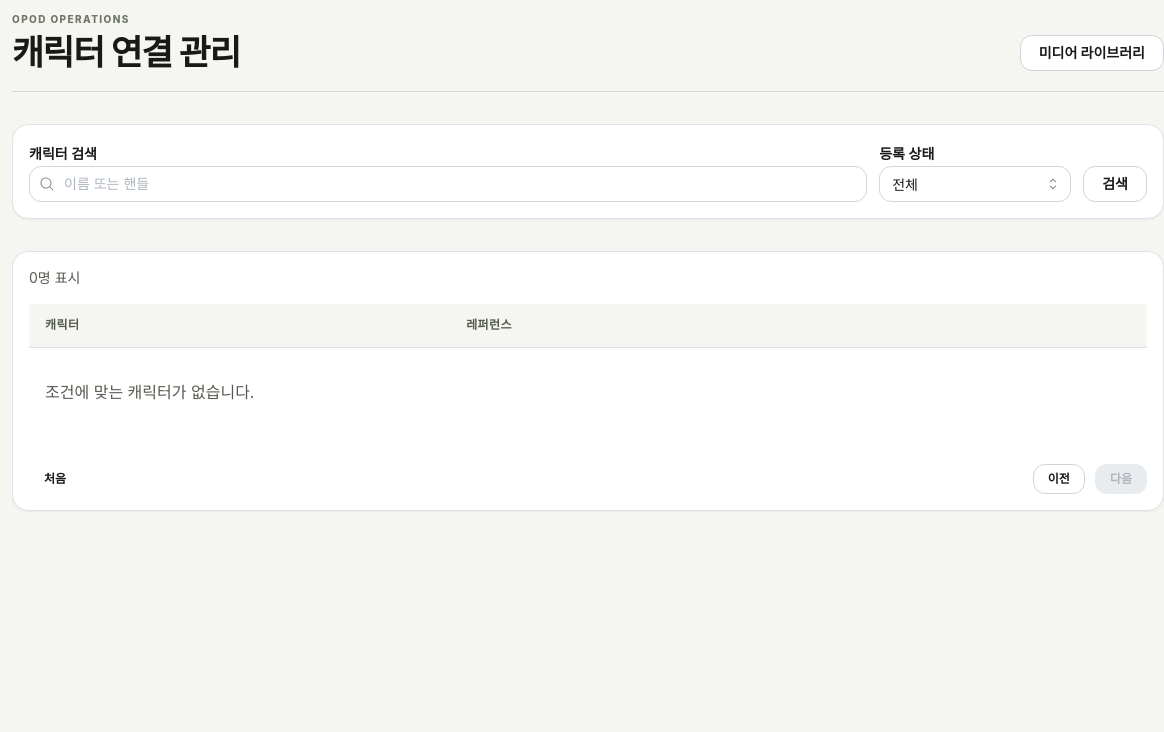
Test: character SNS reference list and detail › keeps search and registration filters available for empty results and resets the old cursor
The image size is (1164, 732).
Expected: the text "조건에 맞는 캐릭터가 없습니다." is shown, [45, 382, 254, 402]
Type "민서" into the field labelled "캐릭터 검색" at (448, 184), box [29, 166, 867, 202]
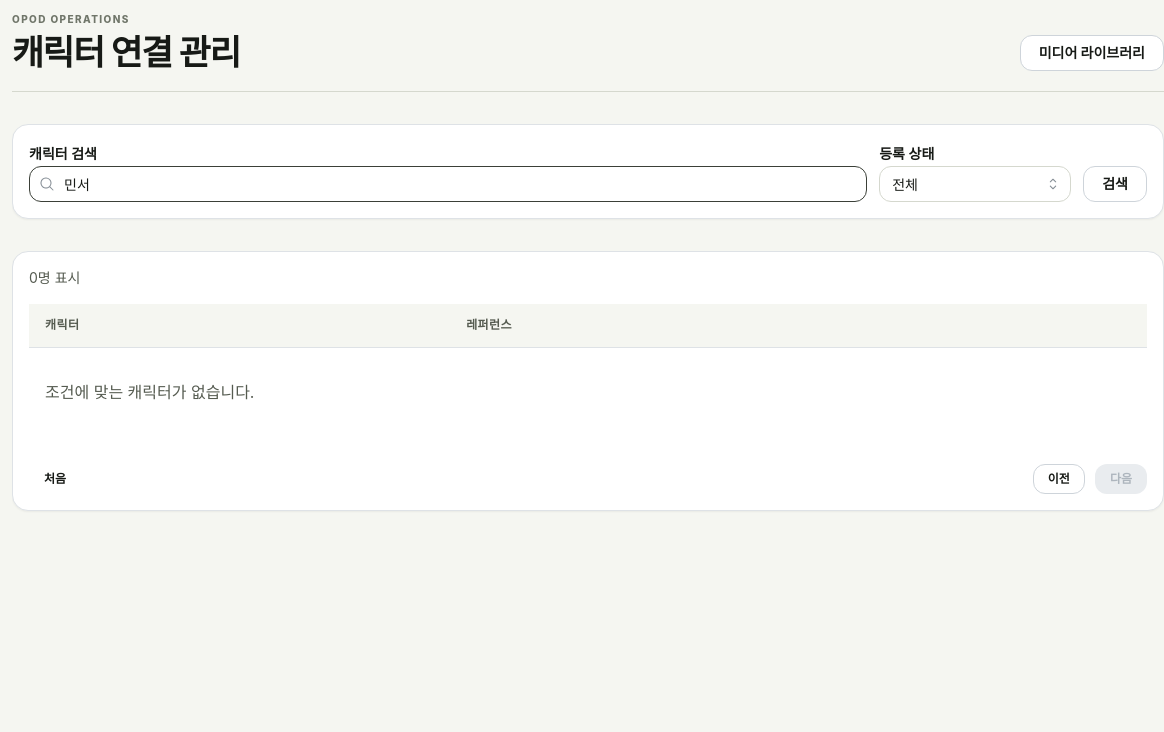
Click the button "검색" at (1115, 184), box [1083, 166, 1147, 202]
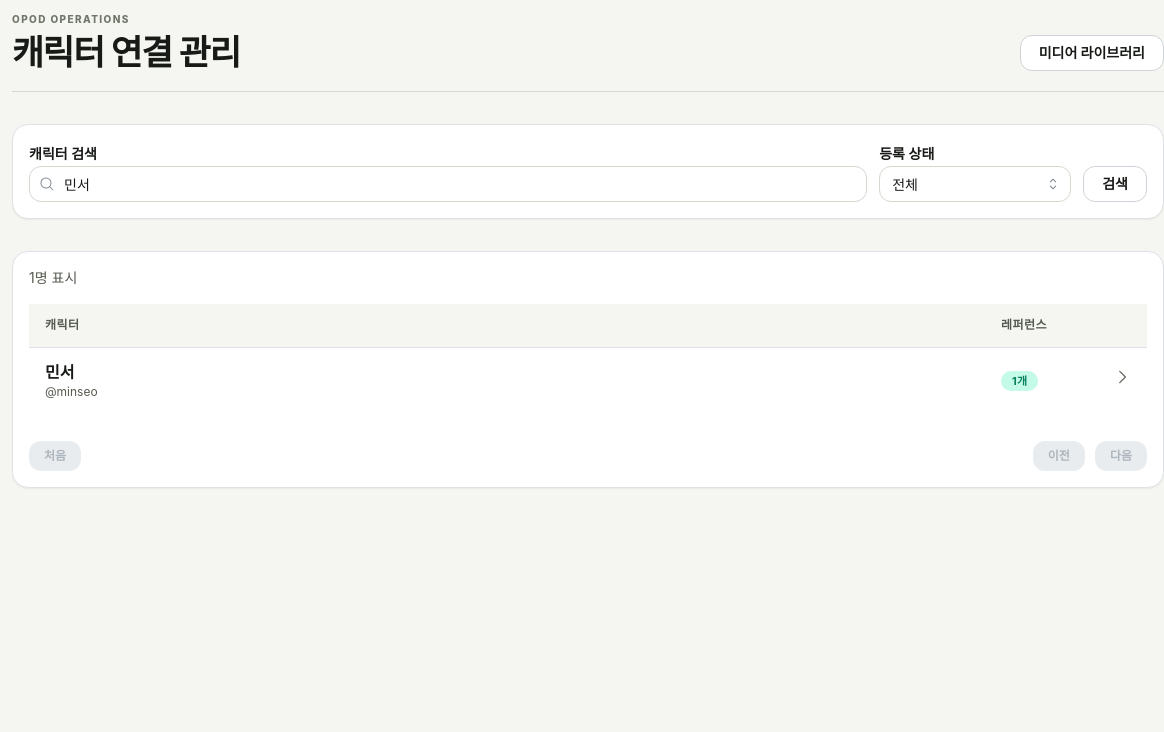
Result: the row "민서 @minseo 1개" is shown at [29, 347, 1147, 413]
Click the dropdown labelled "등록 상태" at (975, 184), box [879, 166, 1071, 202]
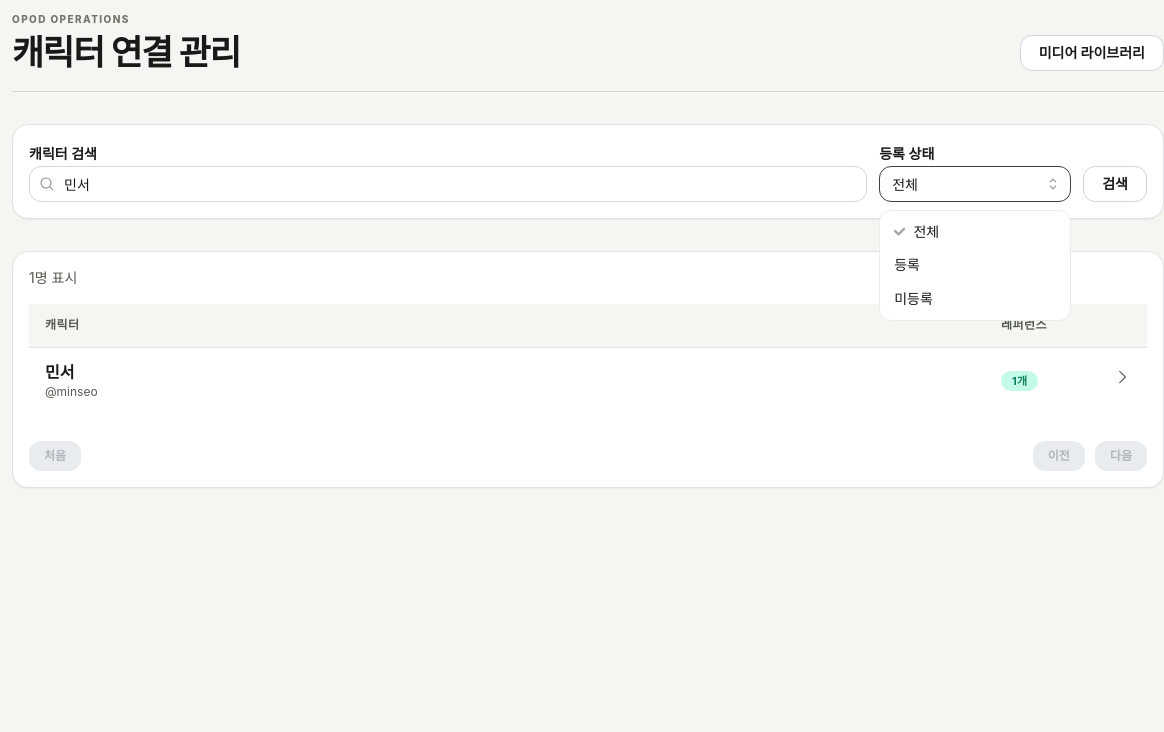
Press Arrowdown Arrowdown Enter
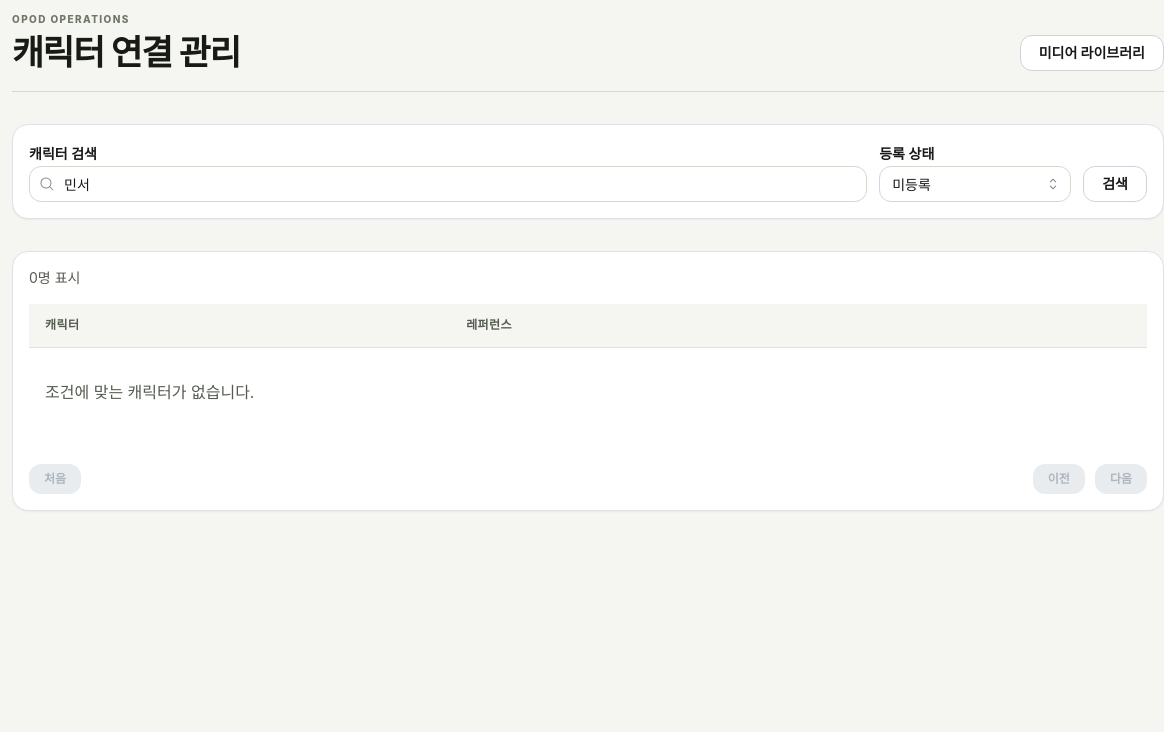
Expected: the field labelled "캐릭터 검색" holds "민서", [29, 166, 867, 202]
Result: the text "조건에 맞는 캐릭터가 없습니다." is shown at [45, 382, 254, 402]
